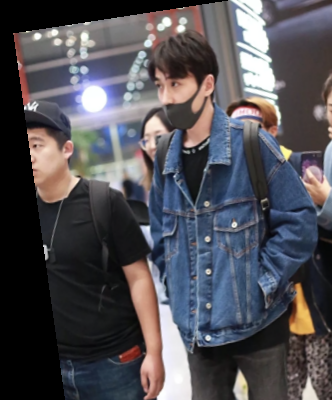mask_weared_incorrect: (140, 32, 225, 132)
